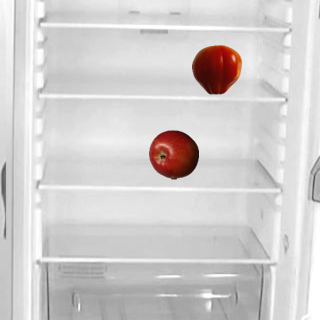Apple Braeburn: (148, 129, 198, 179)
Tomato 1: (191, 44, 241, 94)
